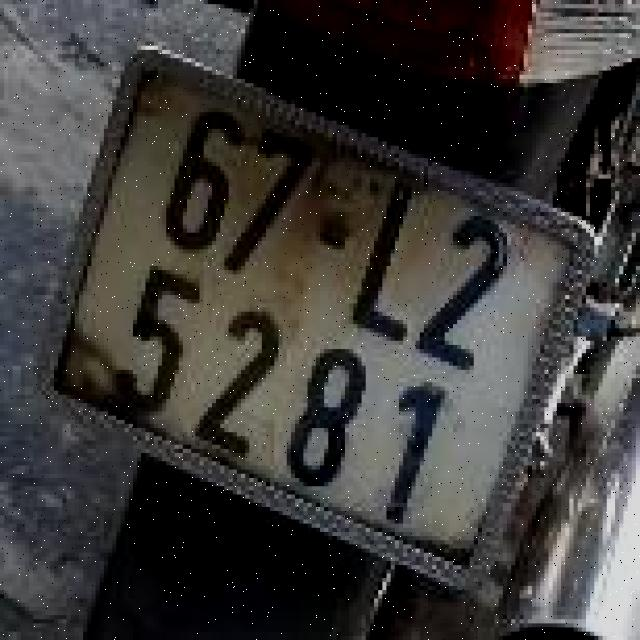1: (362, 367, 474, 533)
2: (407, 201, 539, 379), (183, 295, 302, 466)
5: (96, 253, 221, 430)
6: (152, 96, 261, 264)
7: (217, 110, 331, 289)
8: (264, 325, 391, 504)
L: (336, 163, 456, 354)
